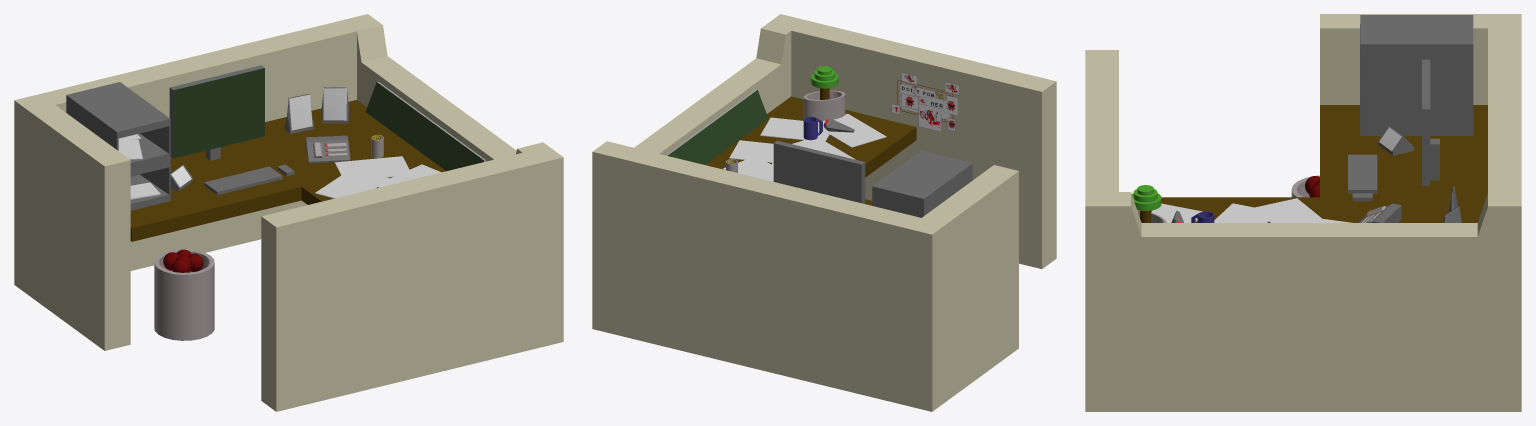
File: Office SetUp v4.fbx
3 views of the same model, side by side, from view 1: azimuth 30°, elevation 25°; view 2: azimuth 150°, elevation 25°; view 3: azimuth 270°, elevation 25° (orthographic). The views are drawn at different scales.
Visible parts, largest first — view 1: Cubicle, Desk, Monitor, FileCabnet1, Bin5, SoulCounter, Paper1, FileCabnet, Keybord, Phone, FamilyPhoto, FamilyPhoto1 (+2 smaller); view 2: Cubicle, FileCabnet1, Monitor, Desk, SoulCounter, Picture1, Tree, Paper5, Paper6, Paper2, Paper1, Paper3; view 3: Cubicle, Desk, FileCabnet1, FileCabnet, Monitor, Keybord, Paper4, Paper3, Calander, Phone, Paper5.
Part boxes in pixels (box(x1,y1,x2,y2)): Cubicle: box(14, 14, 563, 411); Desk: box(130, 100, 445, 241); Monitor: box(169, 65, 264, 160); FileCabnet1: box(66, 82, 170, 169); Bin5: box(154, 249, 214, 340); SoulCounter: box(365, 81, 485, 171); Paper1: box(335, 156, 411, 180); FileCabnet: box(130, 160, 170, 210); Keybord: box(204, 166, 282, 194); Phone: box(306, 135, 350, 163); FamilyPhoto: box(321, 87, 348, 123); FamilyPhoto1: box(284, 94, 314, 133); Cubicle: box(592, 14, 1056, 411); FileCabnet1: box(872, 151, 972, 217); Monitor: box(773, 140, 865, 203); Desk: box(705, 96, 916, 205); SoulCounter: box(666, 89, 768, 164); Picture1: box(891, 72, 959, 131); Tree: box(803, 90, 845, 121); Paper5: box(818, 113, 886, 147); Paper6: box(760, 117, 830, 141); Paper2: box(729, 140, 773, 162); Paper1: box(722, 159, 773, 181); Paper3: box(792, 137, 855, 159); Cubicle: box(1085, 14, 1521, 411); Desk: box(1151, 105, 1487, 222); FileCabnet1: box(1360, 15, 1473, 90); FileCabnet: box(1360, 82, 1473, 135); Monitor: box(1422, 59, 1439, 185); Keybord: box(1348, 154, 1377, 193); Paper4: box(1253, 198, 1326, 222); Paper3: box(1214, 203, 1268, 222); Calander: box(1378, 126, 1414, 155); Phone: box(1358, 203, 1401, 222); Paper5: box(1151, 203, 1202, 222).
Size of the model in its own units: 2.71 by 1.46 by 2.6.
13 materials, 1 textured.
